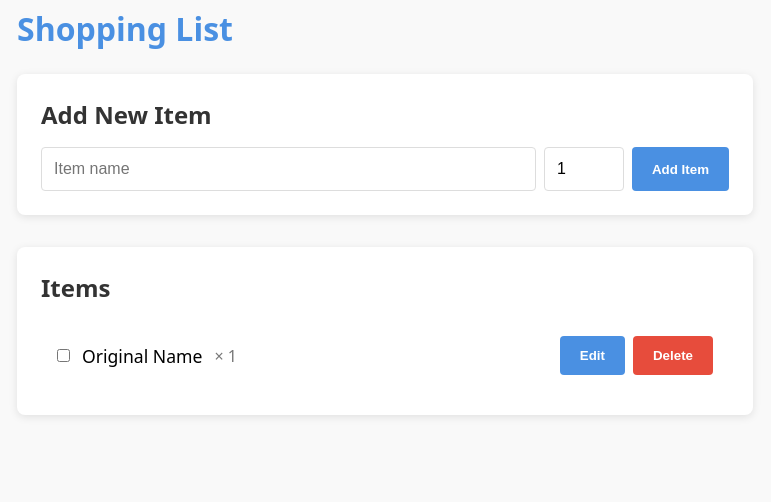
Test case: App Component - Error Handling Tests › handles error when saving edited item
expect the text "Original Name" is shown: met, box [82, 344, 202, 368]
Note: Click edit button
Click the button "Edit": click(592, 356) [560, 336, 625, 375]
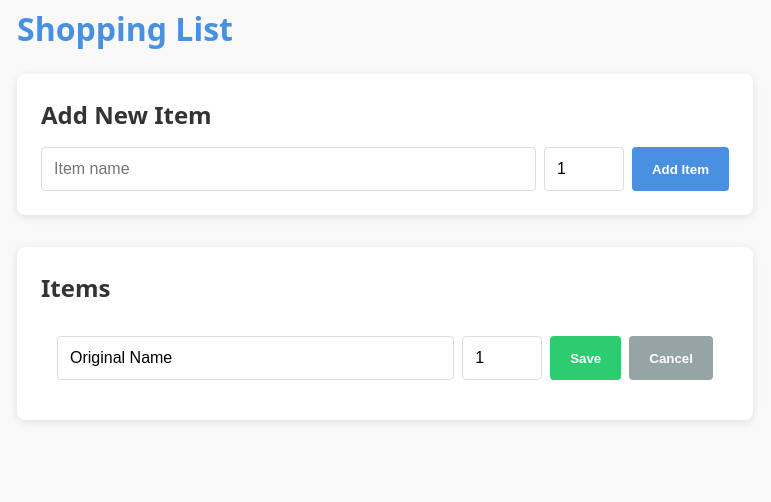
expect the field showing "Original Name" is shown: met
Note: Change name
Replace the text in the field showing "Original Name" with "Updated Name": (256, 358) [57, 336, 454, 380]
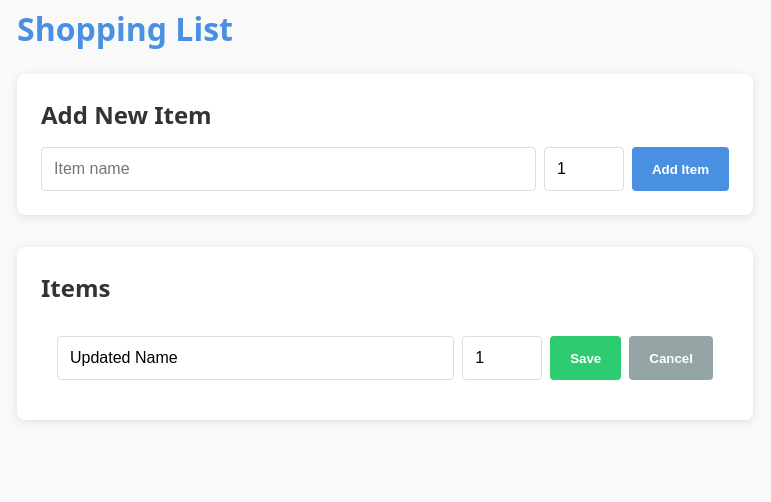
Note: Click save button
Click the button "Save": click(586, 358) [550, 336, 621, 380]
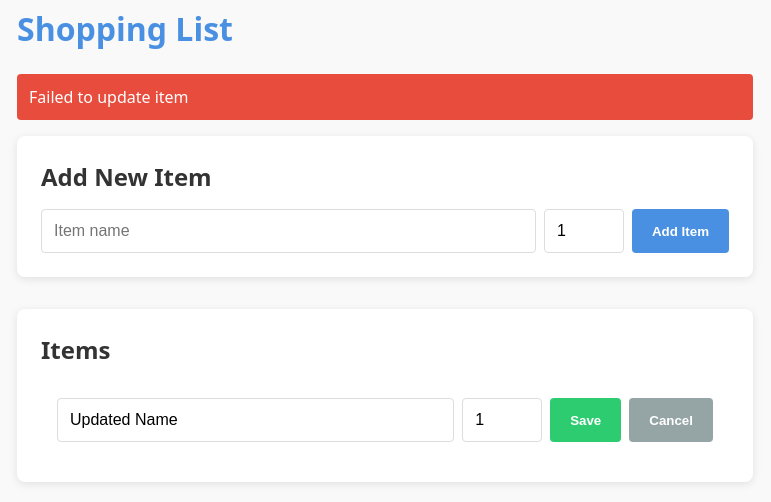
expect the text "Failed to update item" is shown: met, box [17, 74, 753, 120]
